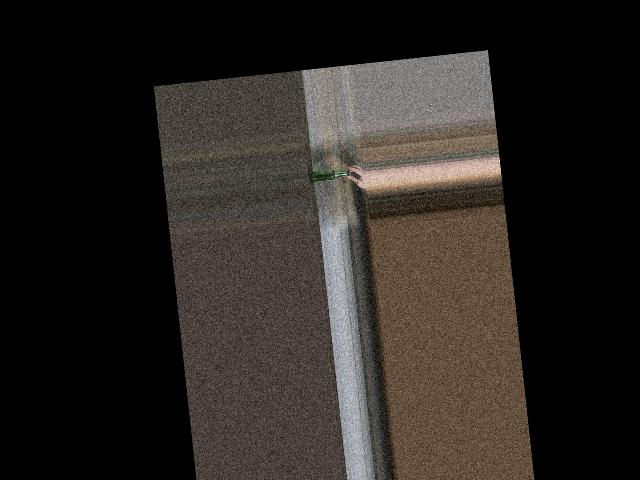beer: (308, 167, 350, 182)
